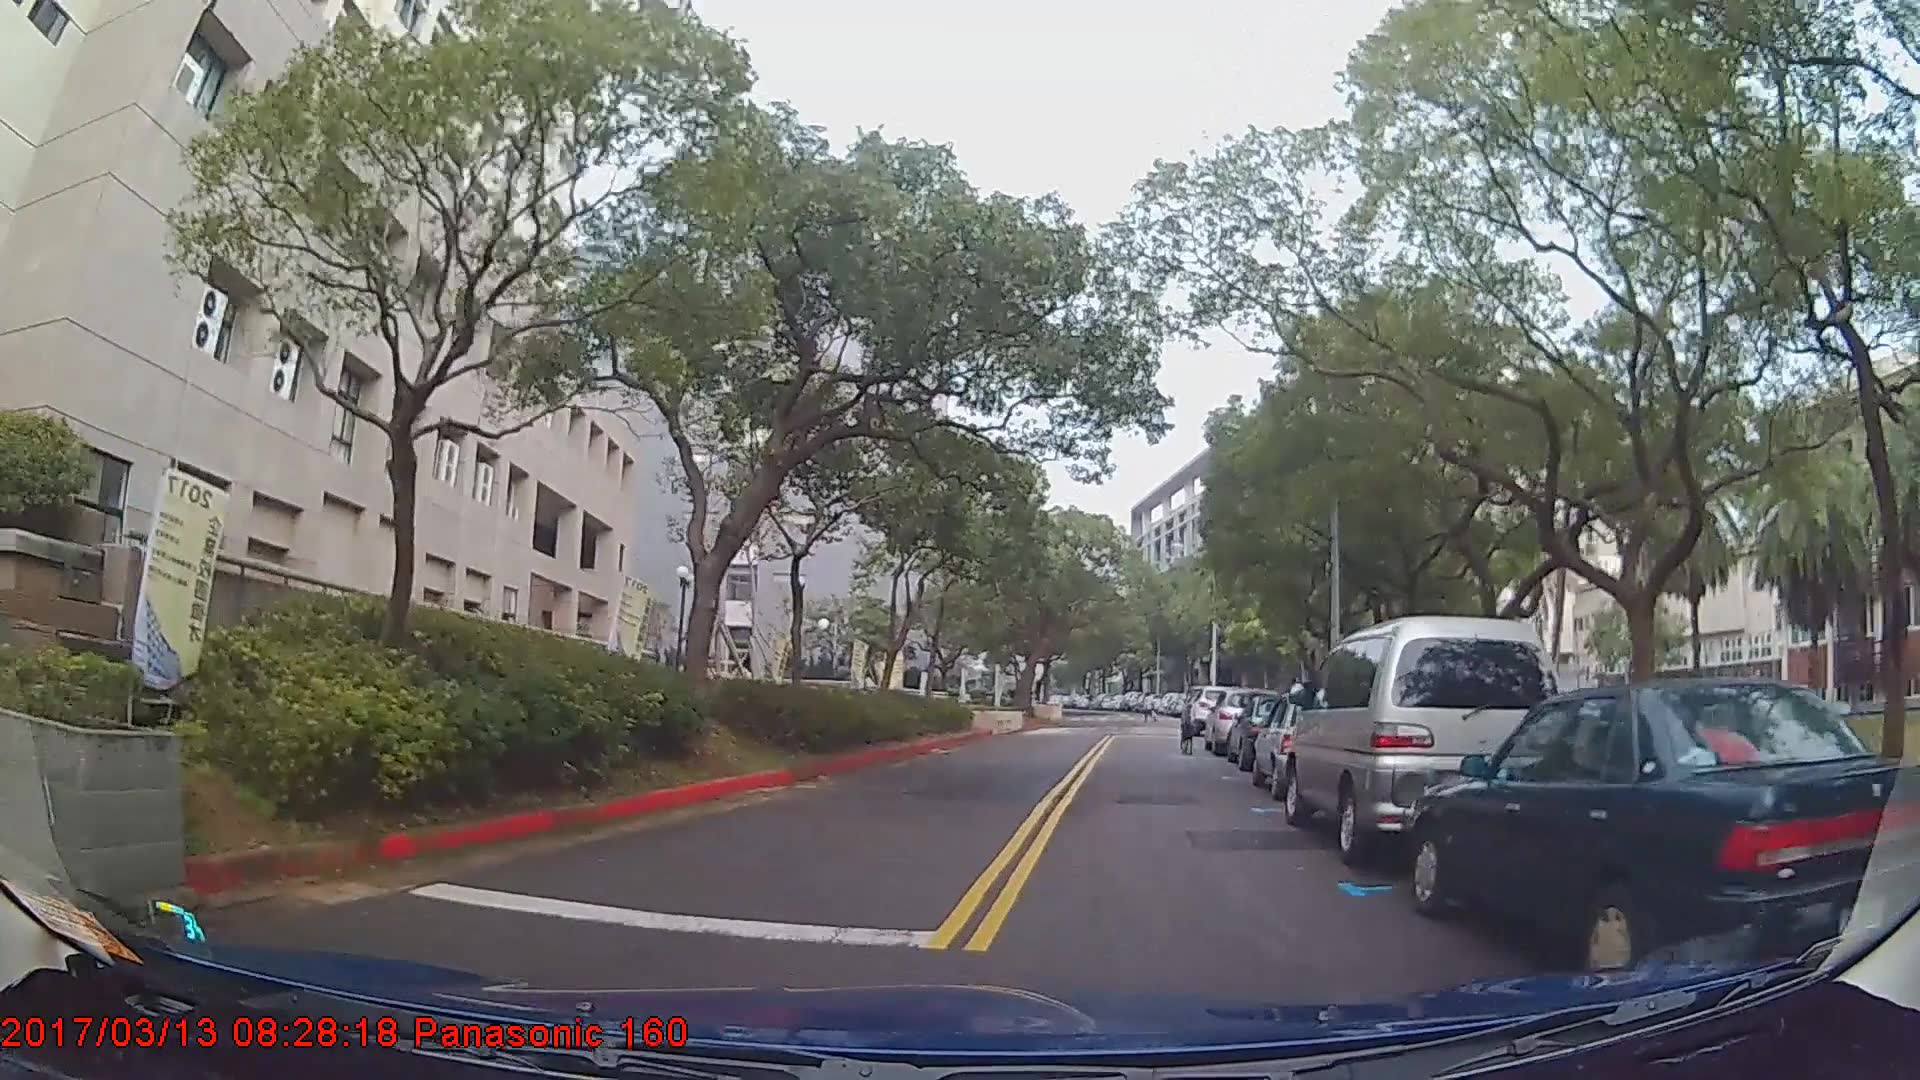vehicle: (1408, 667, 1917, 982), (1280, 611, 1564, 866)
